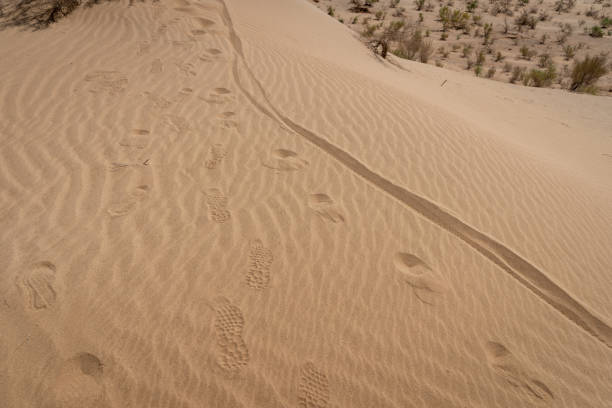human_foot_print: (484, 341, 553, 401), (212, 310, 259, 383), (393, 252, 448, 304), (69, 345, 108, 408), (296, 353, 337, 408), (73, 62, 125, 104), (109, 185, 165, 223), (250, 239, 286, 298), (21, 259, 60, 304), (118, 123, 158, 160), (207, 187, 234, 227), (262, 148, 308, 171), (308, 193, 344, 222), (207, 133, 232, 169), (204, 38, 227, 60), (198, 86, 230, 100)
